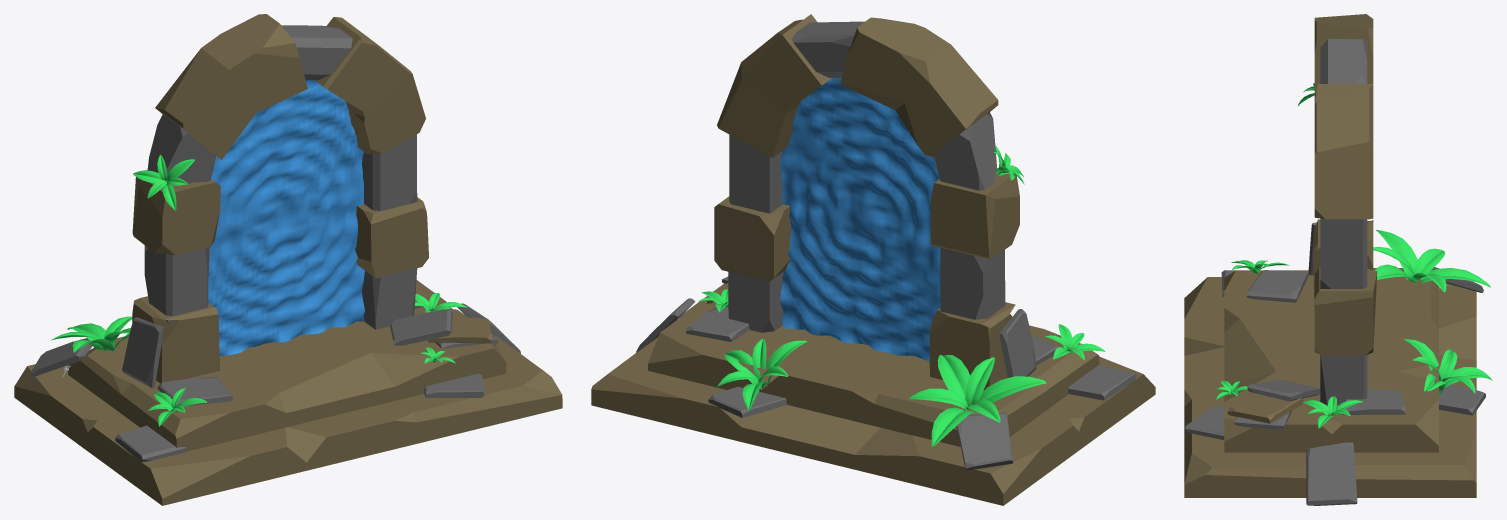
File: Portal.fbx
The picture shows the model from 3 angles, left to right: view 1: azimuth 30°, elevation 25°; view 2: azimuth 150°, elevation 25°; view 3: azimuth 270°, elevation 25°; orthographic projection. The views are drawn at different scales.
Visible parts, largest first — view 1: Plane.001, Plane.002, Cube.001, Cube, Plane, Cube.007, Cube.011, Cube.004, Cube.002, Plane.009, Plane.004, Cube.012 (+3 smaller); view 2: Plane.001, Plane.002, Cube.001, Cube, Plane, Plane.009, Cube.006, Plane.006, Cube.007, Cube.004, Cube.003, Cube.009 (+1 smaller); view 3: Cube, Cube.001, Plane.001, Plane, Cube.005, Plane.009, Plane.006, Cube.002, Cube.012, Cube.003, Cube.009, Cube.011 (+4 smaller).
Boxes of the visible parts, <box> form: Plane.001: <box>132,14,428,383</box>; Plane.002: <box>208,80,364,355</box>; Cube.001: <box>14,307,562,505</box>; Cube: <box>68,280,506,451</box>; Plane: <box>144,25,417,329</box>; Cube.007: <box>122,317,164,388</box>; Cube.011: <box>390,309,452,345</box>; Cube.004: <box>115,425,186,461</box>; Cube.002: <box>157,376,233,406</box>; Plane.009: <box>51,316,132,352</box>; Plane.004: <box>133,155,194,210</box>; Cube.012: <box>428,316,491,343</box>; Plane.001: <box>714,14,1019,390</box>; Plane.002: <box>780,77,940,361</box>; Cube.001: <box>591,283,1155,505</box>; Cube: <box>648,283,1099,446</box>; Plane: <box>728,21,1005,332</box>; Plane.009: <box>908,355,1046,446</box>; Cube.006: <box>956,412,1013,470</box>; Plane.006: <box>717,339,806,410</box>; Cube.007: <box>999,309,1036,377</box>; Cube.004: <box>1068,365,1136,400</box>; Cube.003: <box>686,307,749,341</box>; Cube.009: <box>708,386,786,417</box>; Cube: <box>1224,268,1438,452</box>; Cube.001: <box>1184,277,1476,497</box>; Plane.001: <box>1313,14,1377,355</box>; Plane: <box>1320,38,1367,404</box>; Cube.005: <box>1306,442,1357,505</box>; Plane.009: <box>1373,230,1490,292</box>; Plane.006: <box>1403,339,1492,394</box>; Cube.002: <box>1246,270,1308,302</box>; Cube.012: <box>1227,392,1303,423</box>; Cube.003: <box>1342,389,1405,414</box>; Cube.009: <box>1439,384,1485,415</box>; Cube.011: <box>1247,380,1320,401</box>.
Bounding box in the file's own units: 510 × 434 × 327.
